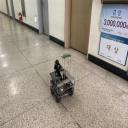cart: (49, 69, 75, 103)
